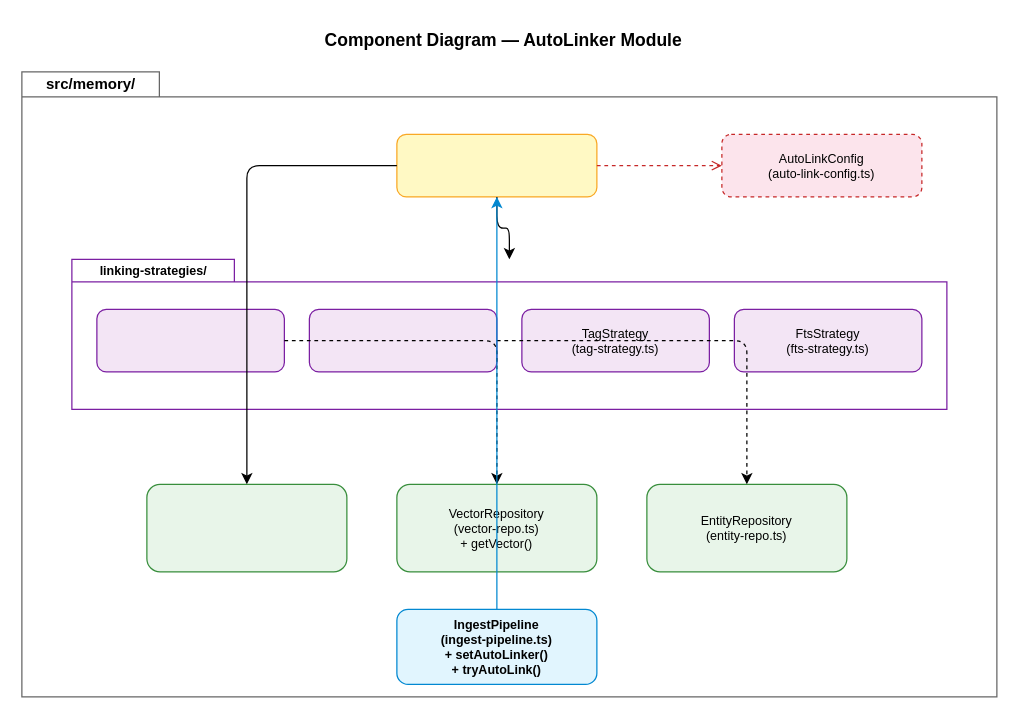
This 1019x719 diagram has some shape labels left out. The centre of each missing label's shape, as x and y in pixels:
"AutoLinker (auto-linker.ts)" belongs at point 496,165.
"EntityStrategy (entity-strategy.ts)" belongs at point 402,340.
"GraphRepository (graph-repo.ts) + edgeExists() + findOrphans()" belongs at point 246,527.
"SemanticStrategy (semantic-strategy.ts)" belongs at point 190,340.
